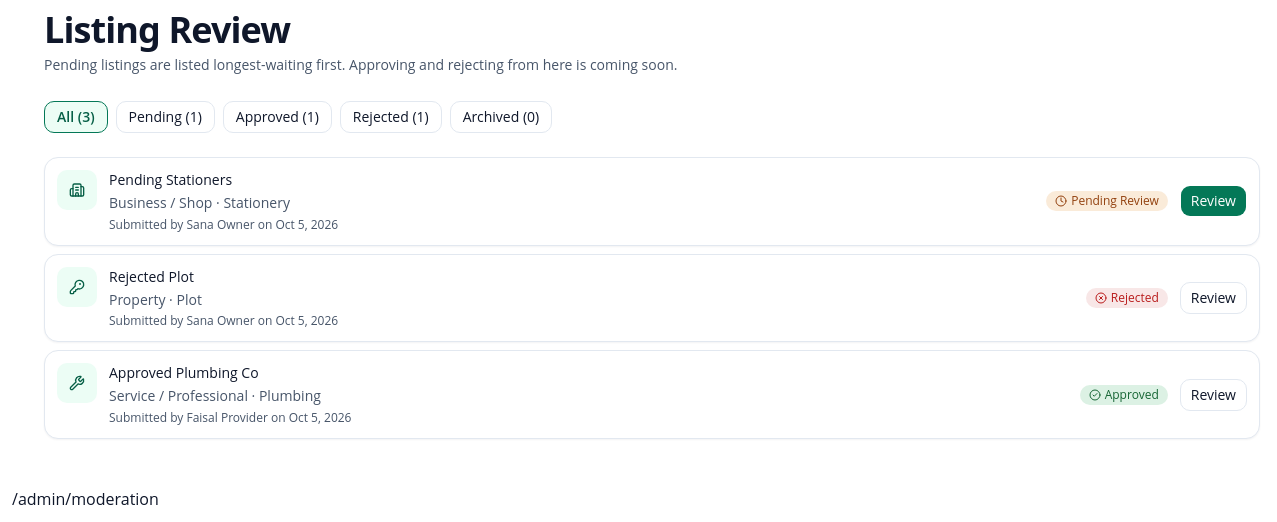
Scenario: Admin: moderation queue › the status filter is the server's: it re-queries, and the counts do not change
Expected: the text "Pending Stationers" is shown, [109, 170, 232, 189]
Click the radio button labelled "Rejected (1)" at (391, 117), box [340, 101, 442, 133]
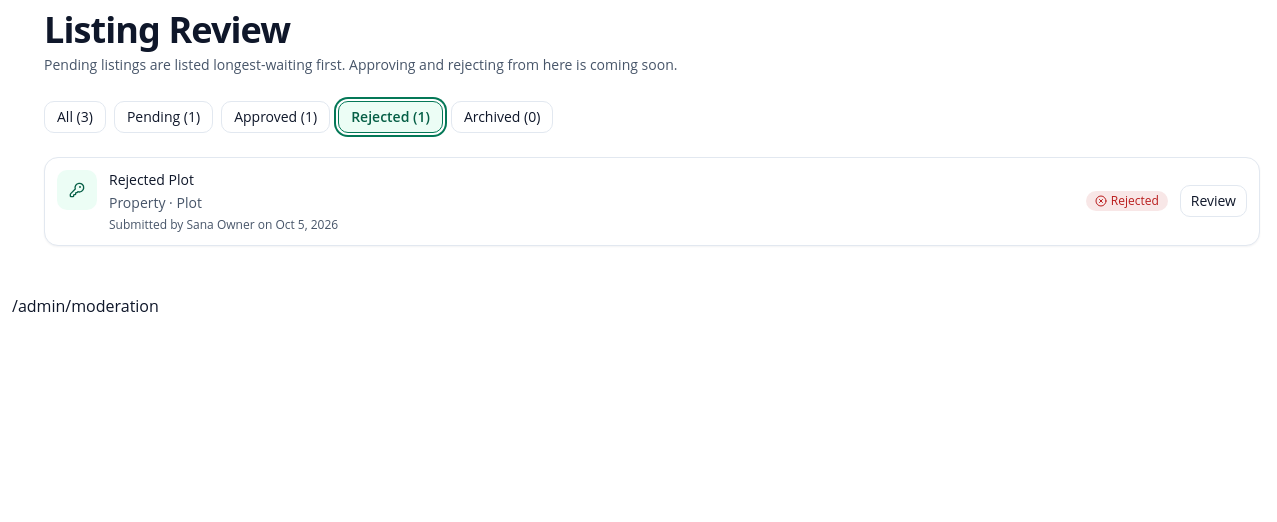
Expected: the text "Rejected Plot" is shown, [109, 170, 194, 189]
Now the text "Pending Stationers" is gone
